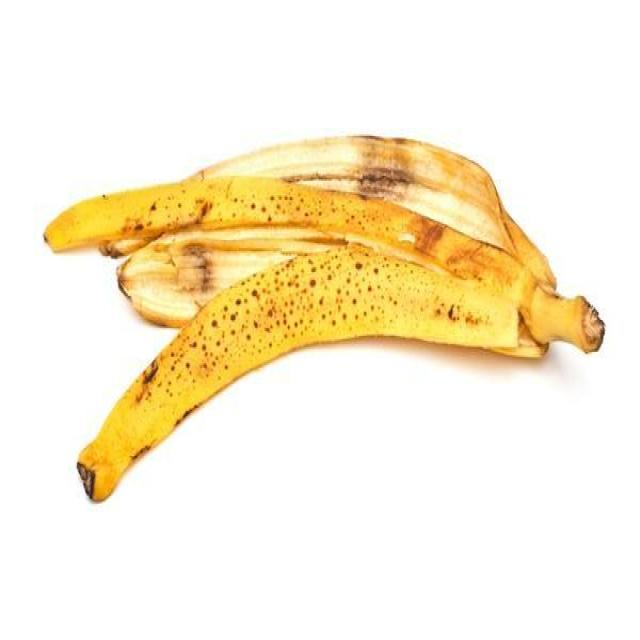organic: (44, 134, 607, 504)
